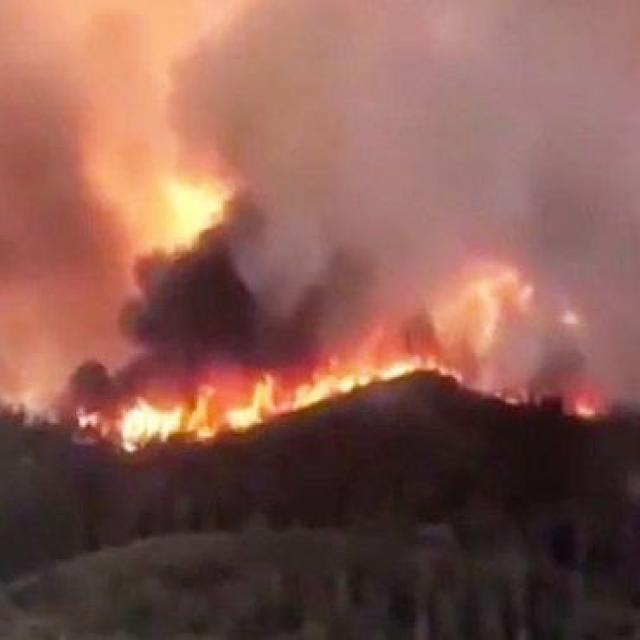Fire: (49, 320, 597, 457)
Smoke: (8, 0, 640, 418)
